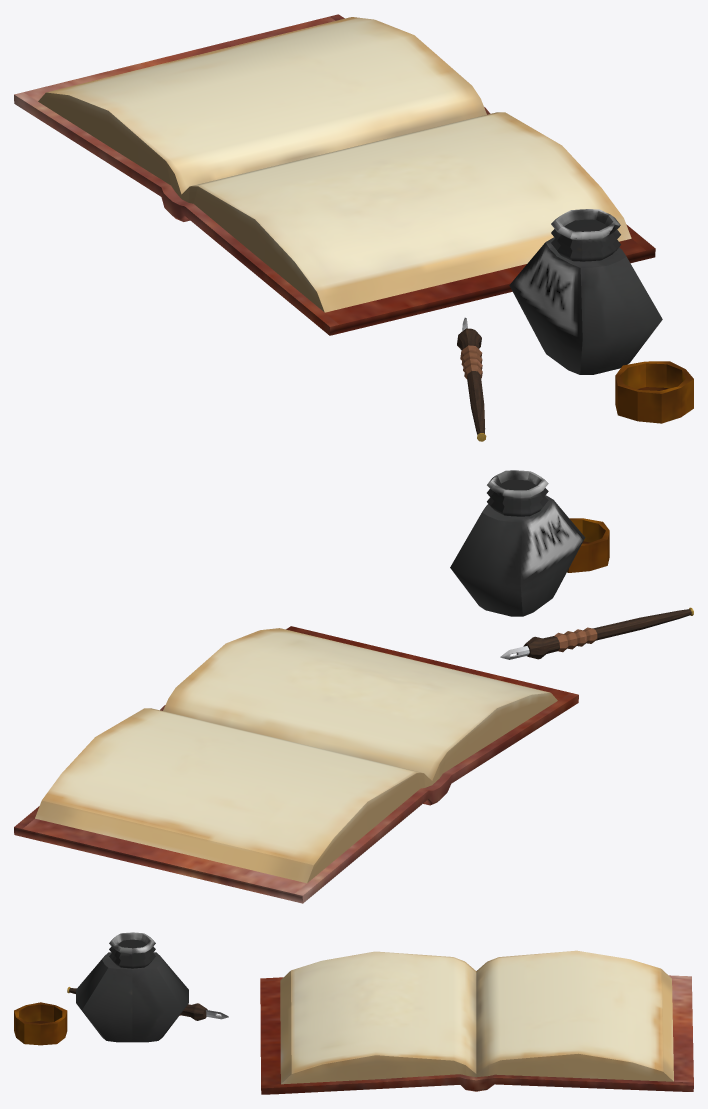
File: Props_Scene.fbx
3 views of the same model, one above another, from view 1: azimuth 30°, elevation 25°; view 2: azimuth 150°, elevation 25°; view 3: azimuth 270°, elevation 25° (orthographic). The views are drawn at different scales.
Visible parts, largest first — view 1: prop_Diary, prop_Inkpot, prop_Pen; view 2: prop_Diary, prop_Inkpot, prop_Pen; view 3: prop_Diary, prop_Inkpot, prop_Pen.
Part boxes in pixels (left/top/right/bottom): prop_Diary: left=14, top=14, right=655, bottom=335; prop_Inkpot: left=509, top=209, right=693, bottom=423; prop_Pen: left=457, top=317, right=486, bottom=441; prop_Diary: left=14, top=626, right=578, bottom=903; prop_Inkpot: left=450, top=470, right=609, bottom=616; prop_Pen: left=500, top=607, right=693, bottom=659; prop_Diary: left=260, top=950, right=693, bottom=1094; prop_Inkpot: left=14, top=932, right=188, bottom=1045; prop_Pen: left=67, top=987, right=228, bottom=1020.
Bounding box in the file's own units: 4.29 × 1.87 × 11.22.
